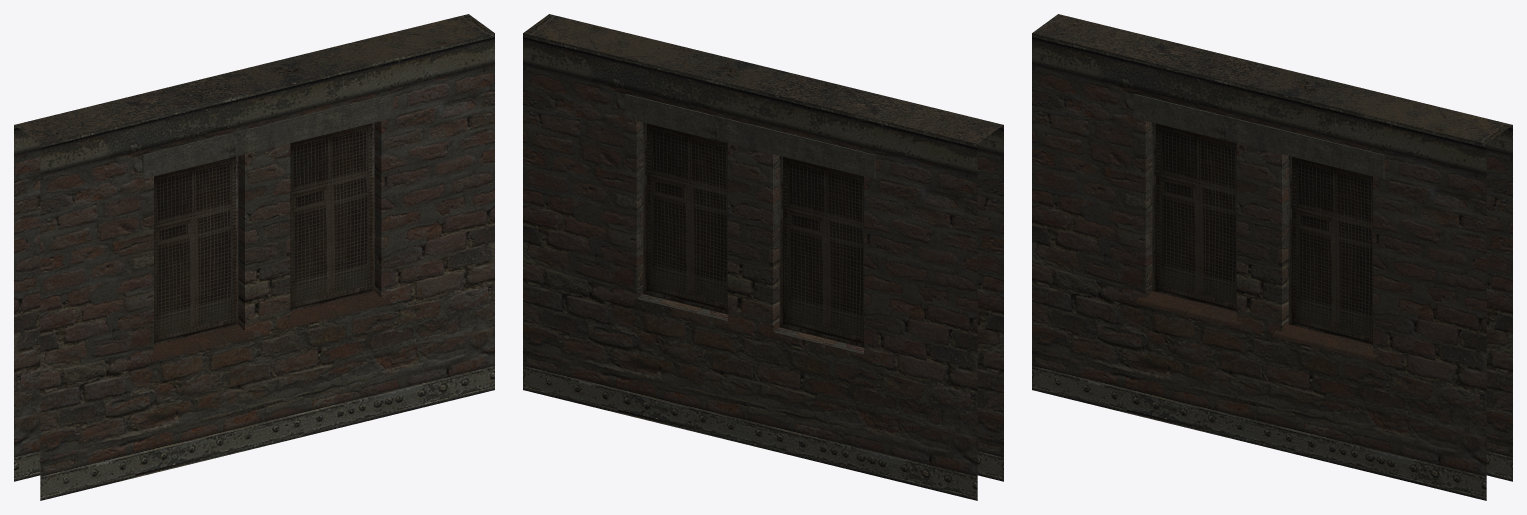
Rendered from windows_hr_1.dae.
3 renders of one model, left to right at view 1: azimuth 30°, elevation 25°; view 2: azimuth 150°, elevation 25°; view 3: azimuth 330°, elevation 25°, orthographic.
Visible parts, largest first — view 1: windows_hr_1; view 2: windows_hr_1; view 3: windows_hr_1.
Part boxes in pixels (x1,y1,x2,y2): windows_hr_1: (14, 14, 494, 500); windows_hr_1: (523, 14, 1003, 500); windows_hr_1: (1032, 14, 1512, 500).
Bounding box in the file's own units: 4 × 0.465 × 3.
Materials: 5 (5 with a texture image).
